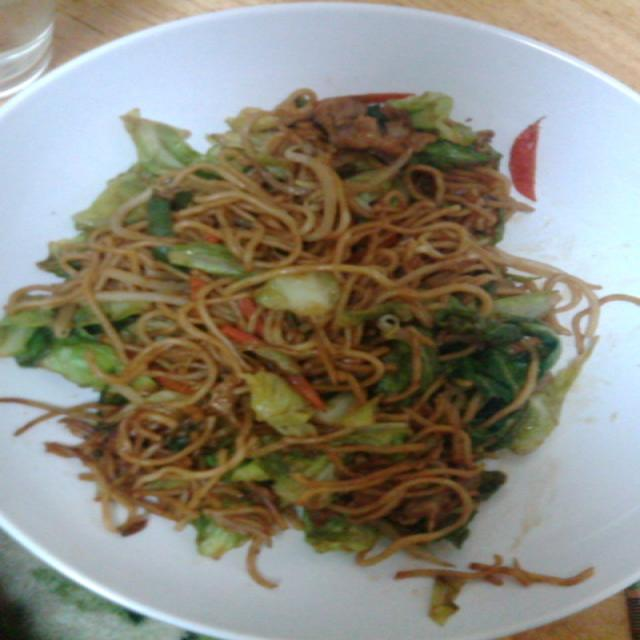面条主食: (11, 81, 616, 576)
